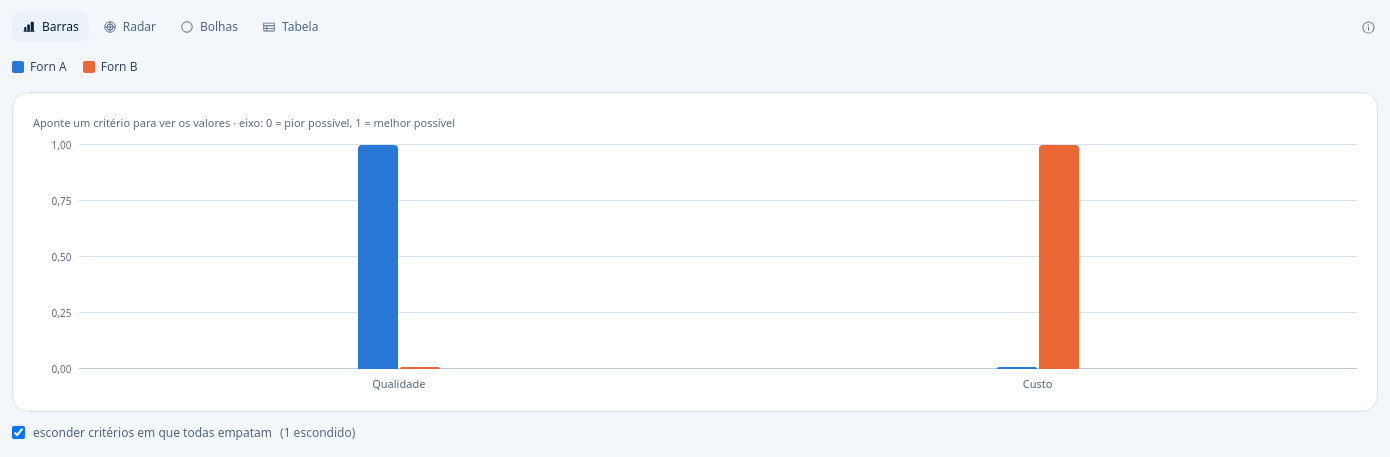
Test: abas › a tabela mostra a unidade original quando pedido
Click the button "Tabela": click(290, 27) [252,12,328,42]
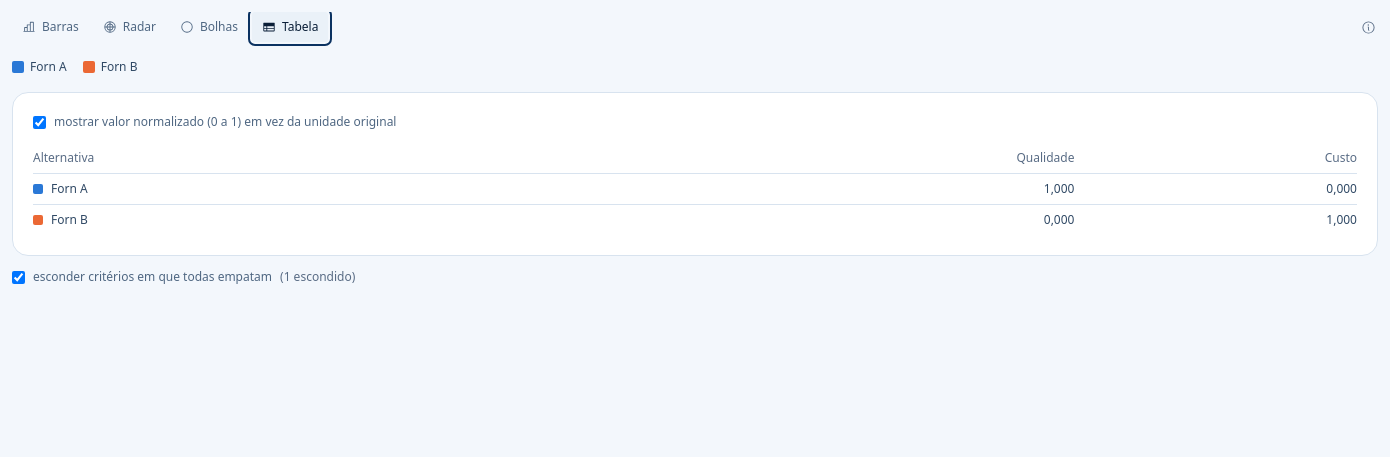
Expected: the text "20" is not shown
Expected: the 1st text "1,000" is shown, [568,174,1074,204]
Click the checkbox labelled "mostrar valor normalizado (0 a 1) em vez da unidade original": click(40, 122) [33,116,46,128]
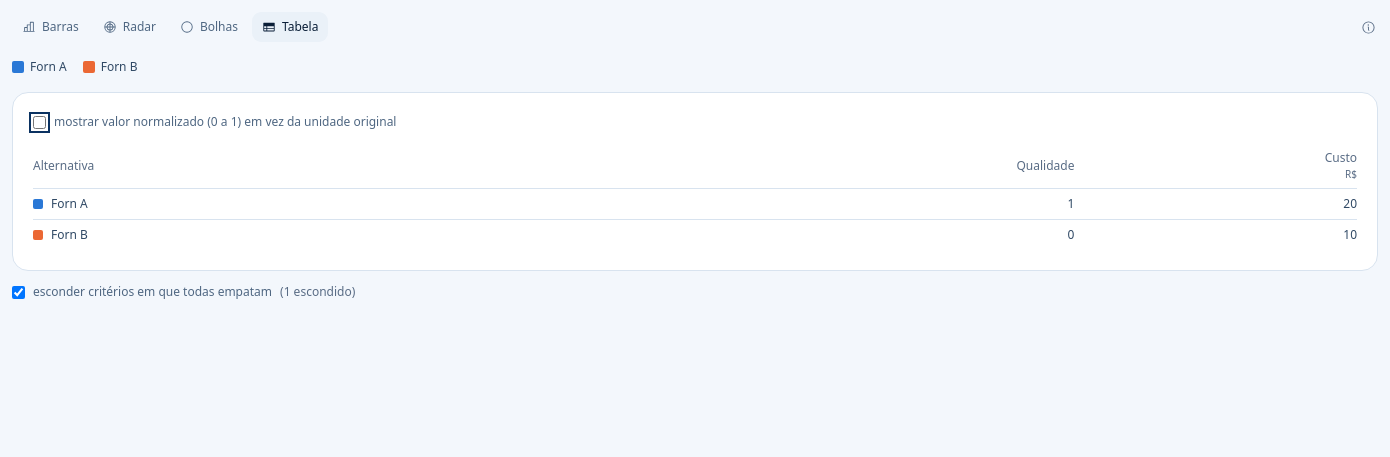
Expected: the text "20" is shown, [1074,188,1357,220]
Expected: the text "1.000" is gone
